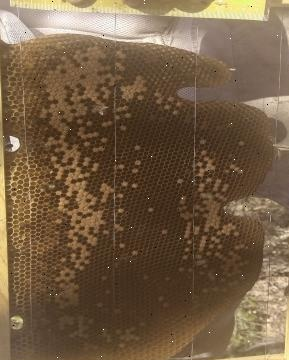cria: (40, 46, 126, 340), (175, 150, 249, 294)
